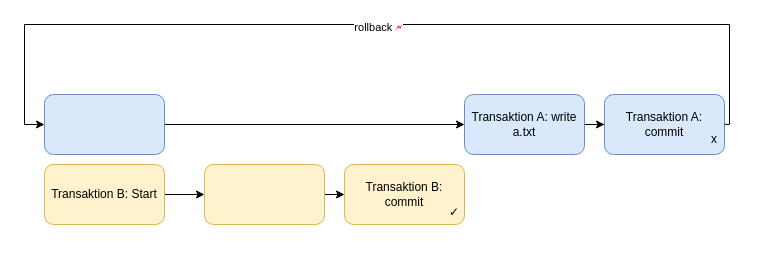
The diagram is 762 pixels wide and 266 high, and some of its shapes have lost their labels. The centre of each missing label's shape, as x and y in pixels:
"Transaktion A: Start" belongs at point 104,124.
"Transaktion B: write a.txt" belongs at point 264,194.
